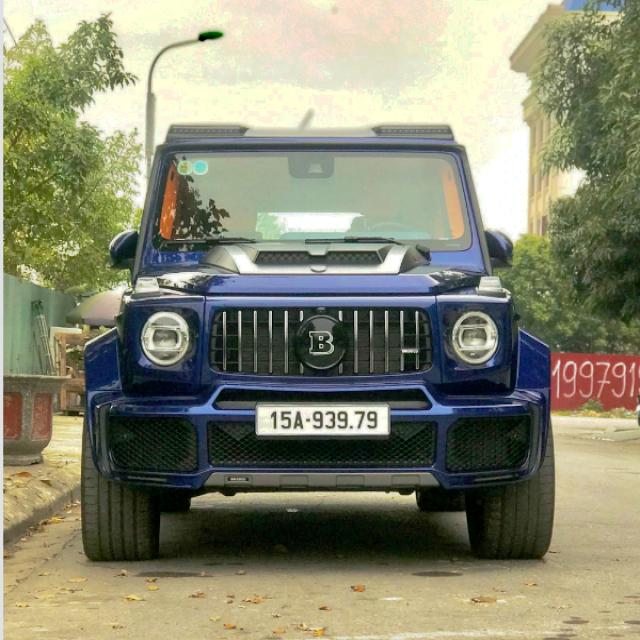license_plate: (260, 403, 392, 437)
